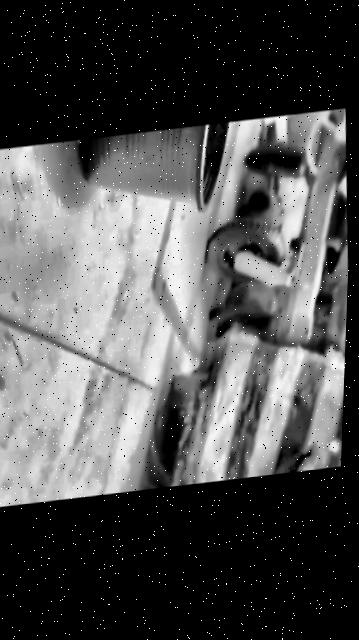pot: (74, 121, 240, 228)
